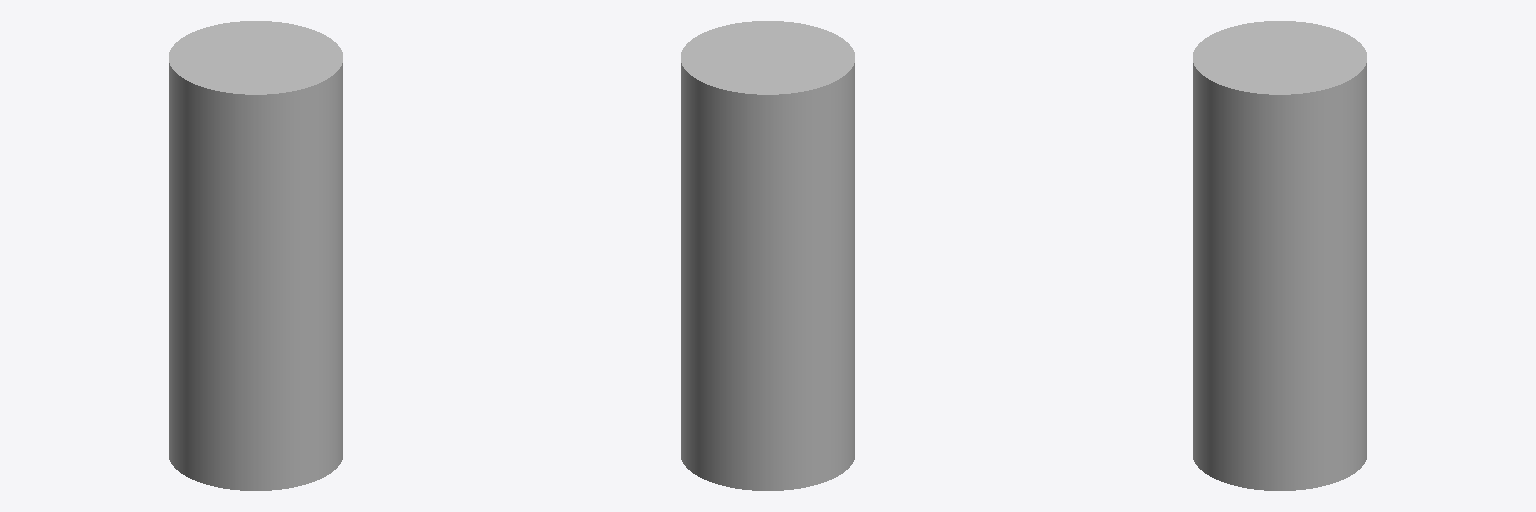
Rendered from hollow_cylinder_360.obj.
3 renders of one model, left to right at view 1: azimuth 30°, elevation 25°; view 2: azimuth 150°, elevation 25°; view 3: azimuth 270°, elevation 25°, orthographic.
Visible parts, largest first — view 1: Cylinder; view 2: Cylinder; view 3: Cylinder.
Boxes of the visible parts, x1=… form: Cylinder: x1=169, y1=21, x2=342, y2=490; Cylinder: x1=681, y1=21, x2=854, y2=490; Cylinder: x1=1193, y1=21, x2=1366, y2=490.
Size of the model in its own units: 2 by 5 by 2.